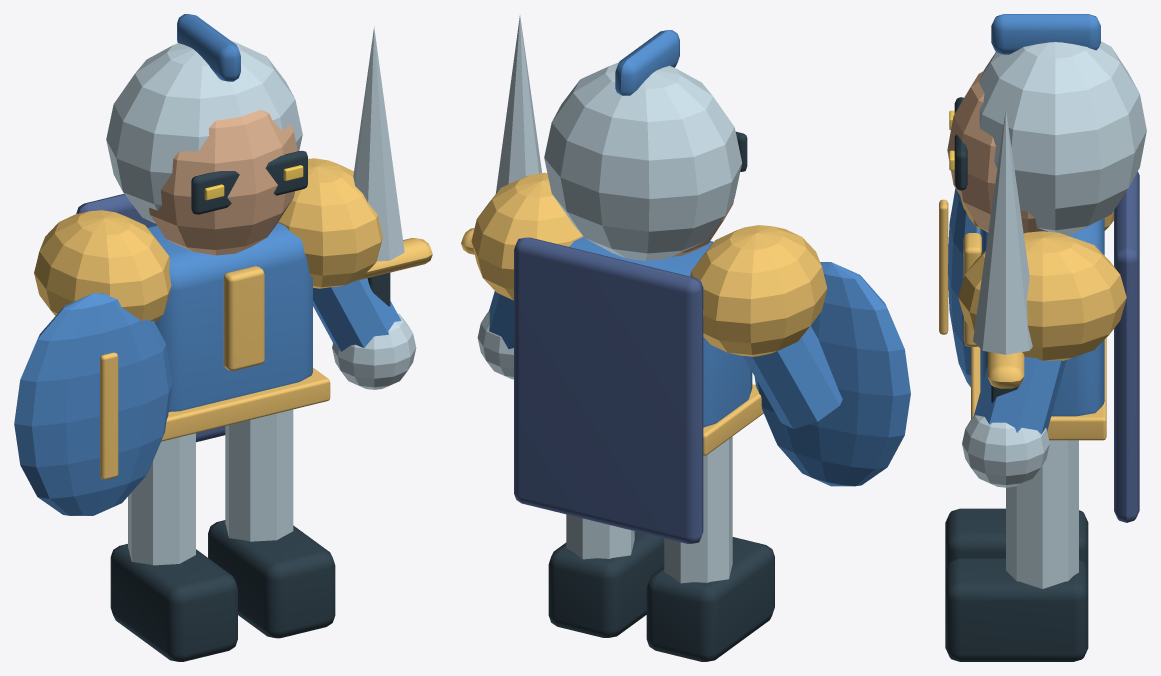
Rendered from Knight.fbx.
The picture shows the model from 3 angles, left to right: view 1: azimuth 30°, elevation 25°; view 2: azimuth 150°, elevation 25°; view 3: azimuth 270°, elevation 25°; orthographic projection. The views are drawn at different scales.
Visible parts, largest first — view 1: Shield, Armored torso, Helmet, Face, Boot, Pauldron, Boot.001, Pauldron.001, Leg.001, Leg, Blade, Gold belt (+8 smaller); view 2: Cape, Helmet, Shield, Pauldron, Boot, Boot.001, Pauldron.001, Arm, Leg, Armored torso, Blade, Helmet crest (+4 smaller); view 3: Helmet, Boot.001, Pauldron.001, Leg.001, Cape, Blade, Sword hand, Face, Arm.001, Armored torso, Helmet crest, Boot (+6 smaller).
Part boxes in pixels (x1,y1,x2,y2): Shield: (14, 293, 172, 515); Armored torso: (147, 223, 312, 411); Helmet: (106, 40, 302, 223); Face: (148, 109, 297, 255); Boot: (110, 544, 237, 661); Pauldron: (34, 210, 171, 322); Boot.001: (208, 520, 335, 638); Pauldron.001: (278, 158, 382, 288); Leg.001: (225, 409, 293, 541); Leg: (128, 433, 195, 565); Blade: (353, 27, 404, 261); Gold belt: (161, 368, 330, 441); Cape: (514, 237, 703, 543); Helmet: (544, 62, 741, 260); Shield: (754, 262, 910, 486); Pauldron: (690, 225, 827, 356); Boot: (646, 537, 774, 661); Boot.001: (548, 531, 664, 637); Pauldron.001: (471, 172, 583, 300); Arm: (743, 326, 842, 428); Leg: (664, 436, 732, 583); Armored torso: (569, 237, 752, 427); Blade: (495, 15, 541, 193); Helmet crest: (615, 30, 679, 95); Helmet: (978, 41, 1146, 235); Boot.001: (945, 558, 1088, 661); Pauldron.001: (958, 231, 1126, 360); Leg.001: (1006, 440, 1078, 588); Cape: (1114, 171, 1139, 522); Blade: (973, 109, 1032, 354); Sword hand: (962, 415, 1049, 487); Face: (947, 70, 1047, 233); Arm.001: (973, 357, 1066, 434); Armored torso: (980, 218, 1104, 416); Helmet crest: (991, 14, 1100, 54); Boot: (945, 508, 1088, 571).
Bounding box in the file's own units: 141 × 184 × 56.75.
